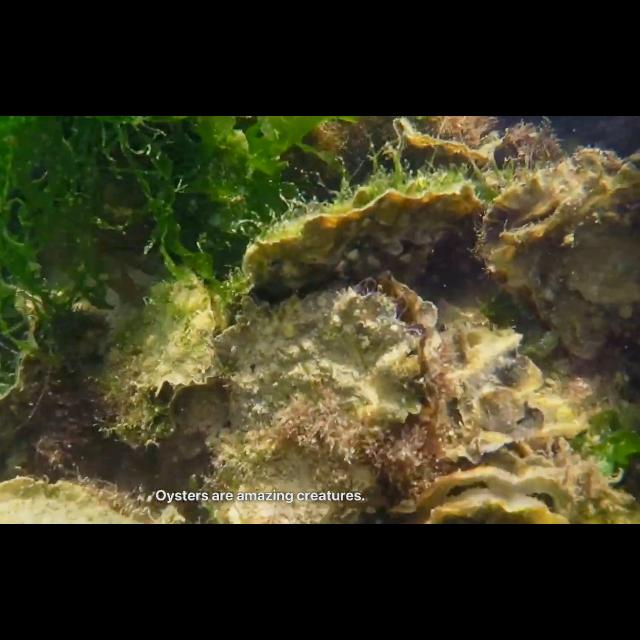Oyster-Closed: (241, 184, 487, 306), (0, 352, 110, 484)
Oyster-Open: (202, 271, 442, 525), (477, 150, 639, 362), (438, 318, 544, 464), (134, 275, 223, 409), (388, 467, 580, 525), (99, 338, 183, 450), (0, 475, 186, 525), (392, 116, 492, 180)
